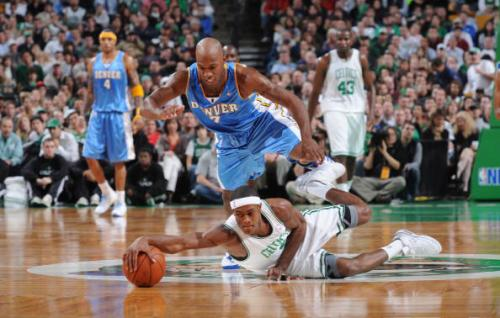10+: (1, 1, 500, 285)
down: (118, 183, 447, 282)
